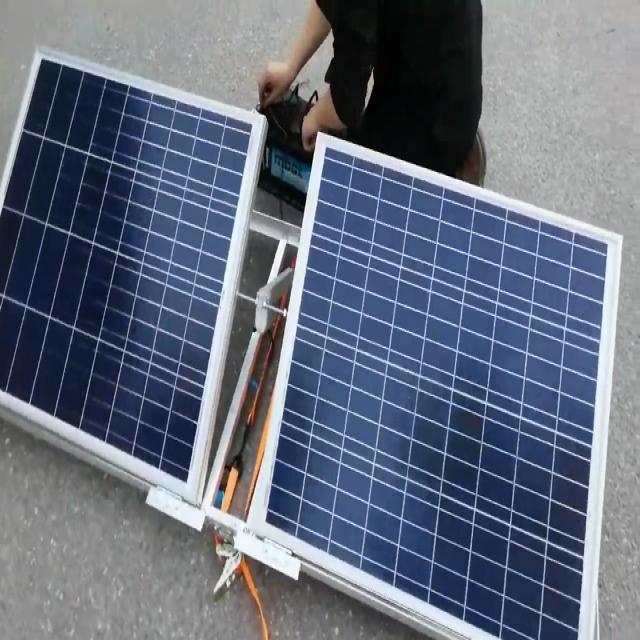Normal Solar Panel: (256, 137, 620, 639), (0, 51, 262, 503)
